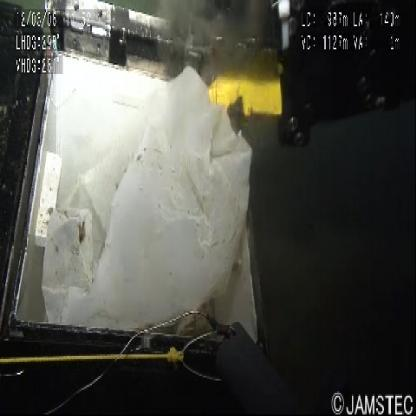Rov: (47, 1, 416, 147)
Rác: (31, 60, 259, 336)
